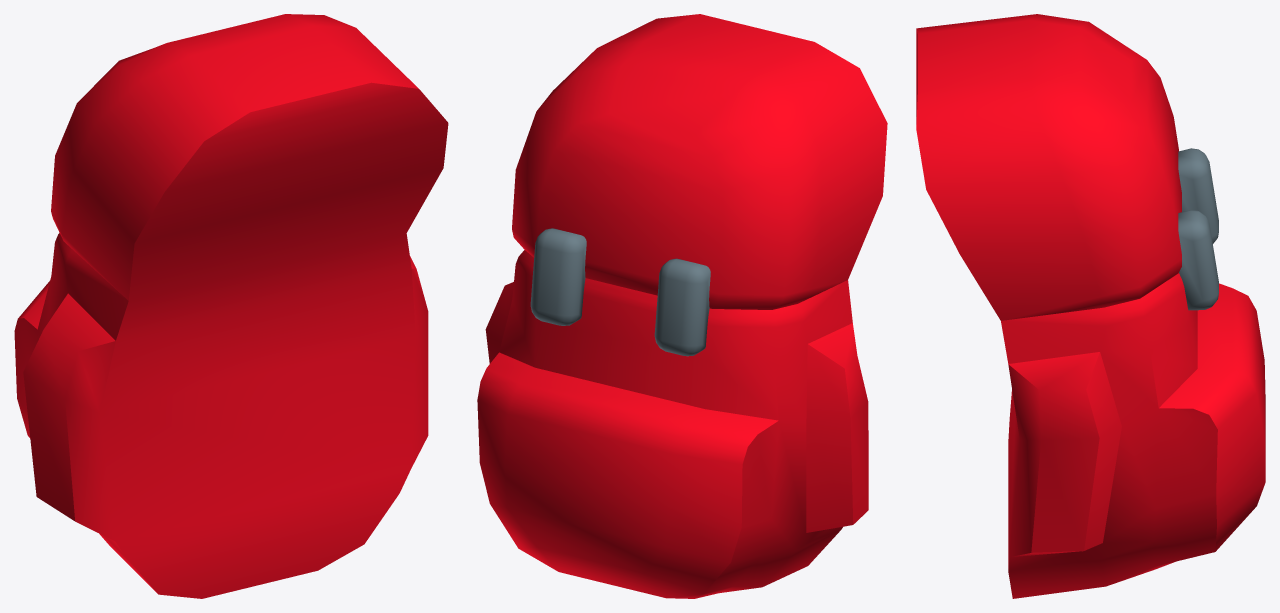
Rendered from backpack.obj.
The picture shows the model from 3 angles, left to right: view 1: azimuth 30°, elevation 25°; view 2: azimuth 150°, elevation 25°; view 3: azimuth 270°, elevation 25°; orthographic projection. The views are drawn at different scales.
Visible parts, largest first — view 1: backpack_Cube.4635; view 2: backpack_Cube.4635; view 3: backpack_Cube.4635.
Part boxes in pixels (box(x1,y1,x2,y2)): backpack_Cube.4635: box(14, 14, 448, 598); backpack_Cube.4635: box(477, 14, 887, 598); backpack_Cube.4635: box(916, 14, 1265, 598).
Bounding box in the file's own units: 0.4626 × 0.6165 × 0.3773.
